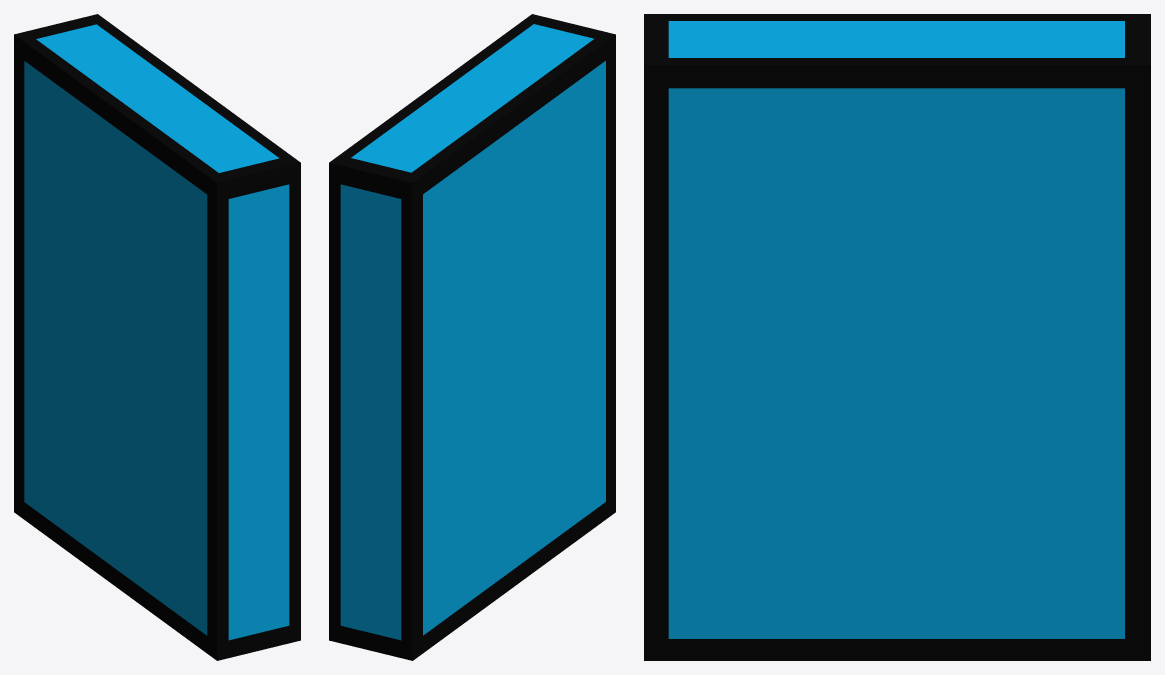
File: kabeteki_body.fbx
The picture shows the model from 3 angles, left to right: view 1: azimuth 30°, elevation 25°; view 2: azimuth 150°, elevation 25°; view 3: azimuth 270°, elevation 25°; orthographic projection. The views are drawn at different scales.
Visible parts, largest first — view 1: 立方体; view 2: 立方体; view 3: 立方体.
Boxes of the visible parts, x1=… form: 立方体: x1=14, y1=14, x2=300, y2=660; 立方体: x1=329, y1=14, x2=615, y2=660; 立方体: x1=644, y1=14, x2=1150, y2=660.
Bounding box in the file's own units: 587 × 140 × 762.
